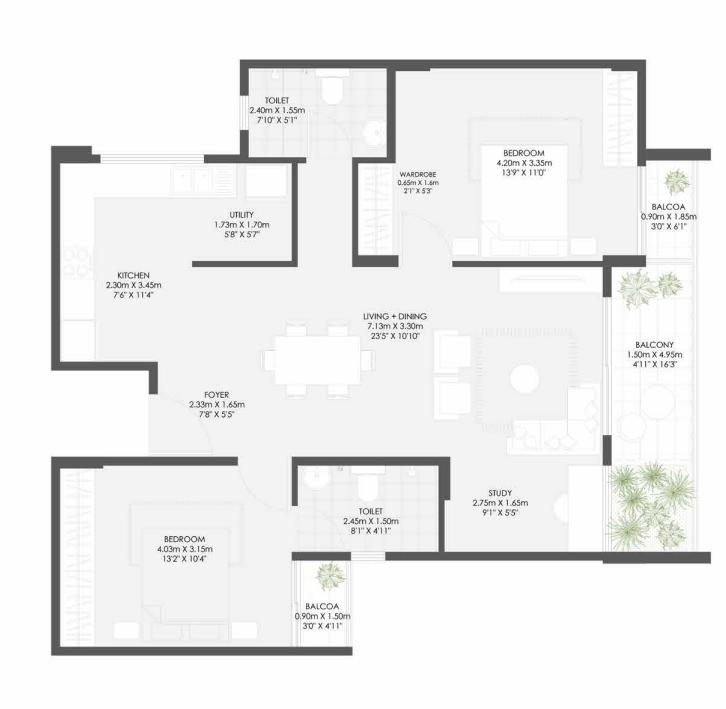Balcony: (608, 261, 697, 557)
Bed: (479, 145, 573, 259), (149, 527, 230, 648)
Bedroom: (396, 70, 640, 259), (61, 466, 292, 645)
Dining Room: (223, 289, 416, 429)
Dining table: (247, 316, 380, 414)
Foyer: (153, 370, 255, 458)
Kitchen: (58, 156, 190, 365)
Living Room: (414, 260, 608, 459)
Sofa: (432, 329, 475, 418), (506, 420, 601, 460), (569, 380, 604, 457), (512, 363, 541, 396)
Wardrobe: (57, 466, 94, 647), (600, 66, 641, 167), (358, 164, 396, 254)
balcoa: (292, 563, 356, 651), (644, 161, 695, 262)
commode: (320, 76, 347, 108), (356, 471, 379, 502)
door: (397, 209, 455, 265), (237, 462, 294, 516)
fridge: (60, 321, 97, 360)
sink: (171, 161, 234, 194), (301, 467, 332, 491), (359, 119, 384, 146)
stove: (57, 245, 93, 281)
study: (448, 459, 604, 554)
toilet: (245, 67, 392, 160), (296, 466, 440, 549)
tv: (495, 266, 601, 292)
utility: (193, 163, 291, 261)
washing-machine: (247, 165, 289, 203)
